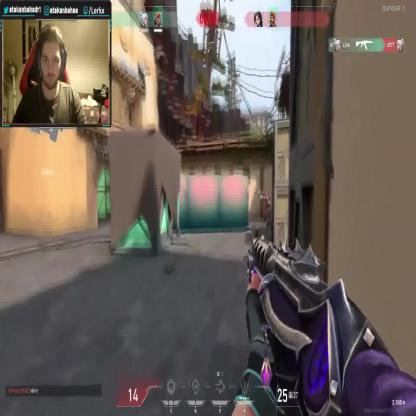enemy: (261, 190, 270, 223)
enemy_head: (265, 193, 269, 200)
